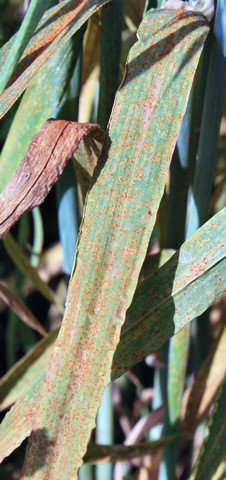Leaf Rust: (58, 39, 200, 421)
